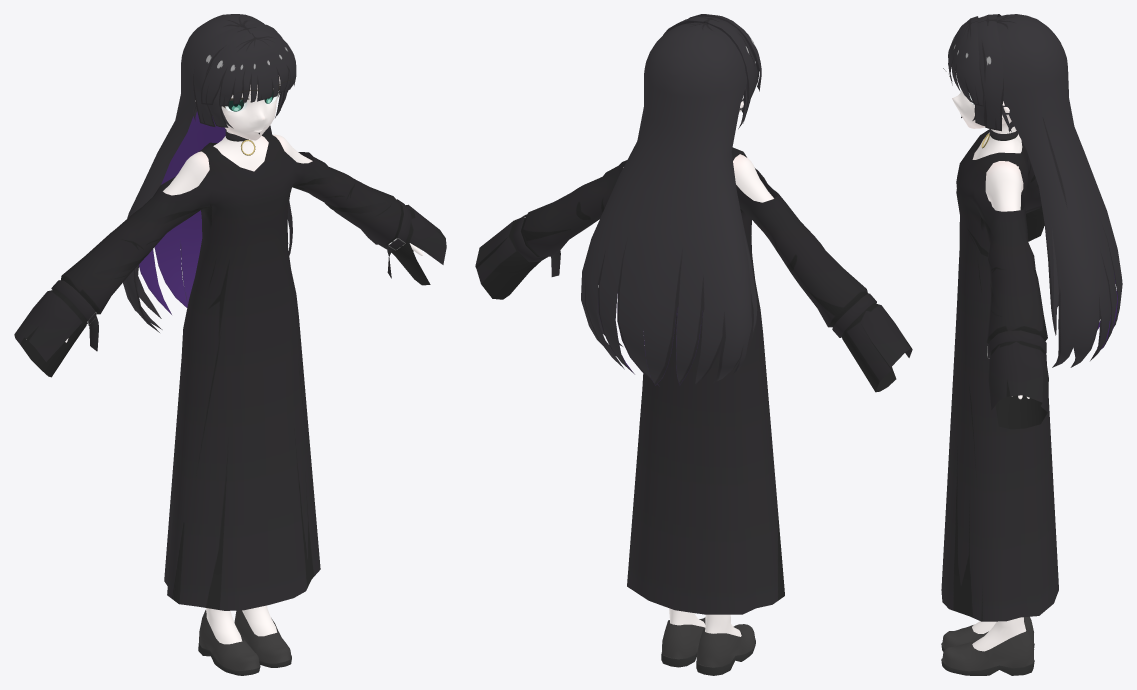
3 views of the same model, side by side, from view 1: azimuth 30°, elevation 25°; view 2: azimuth 150°, elevation 25°; view 3: azimuth 270°, elevation 25° (orthographic).
Bounding box in the file's own units: 1.79 × 2.55 × 0.6531.
Materials: 3 (3 with a texture image).
